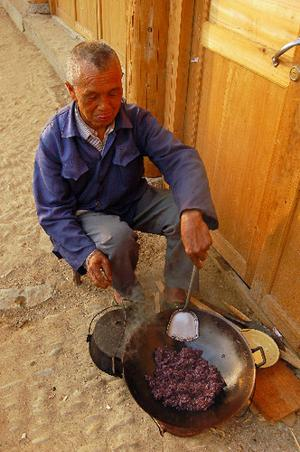person: (34, 42, 217, 307)
